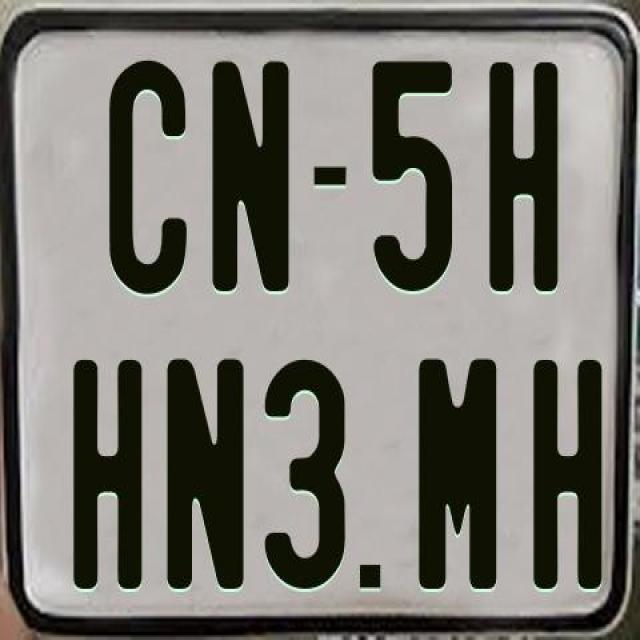3: (263, 355, 345, 589)
5: (368, 56, 456, 290)
C: (105, 56, 183, 291)
H: (489, 58, 563, 296), (71, 359, 145, 594), (531, 355, 601, 587)
M: (417, 354, 495, 586)
N: (208, 58, 288, 288), (166, 358, 246, 588)
